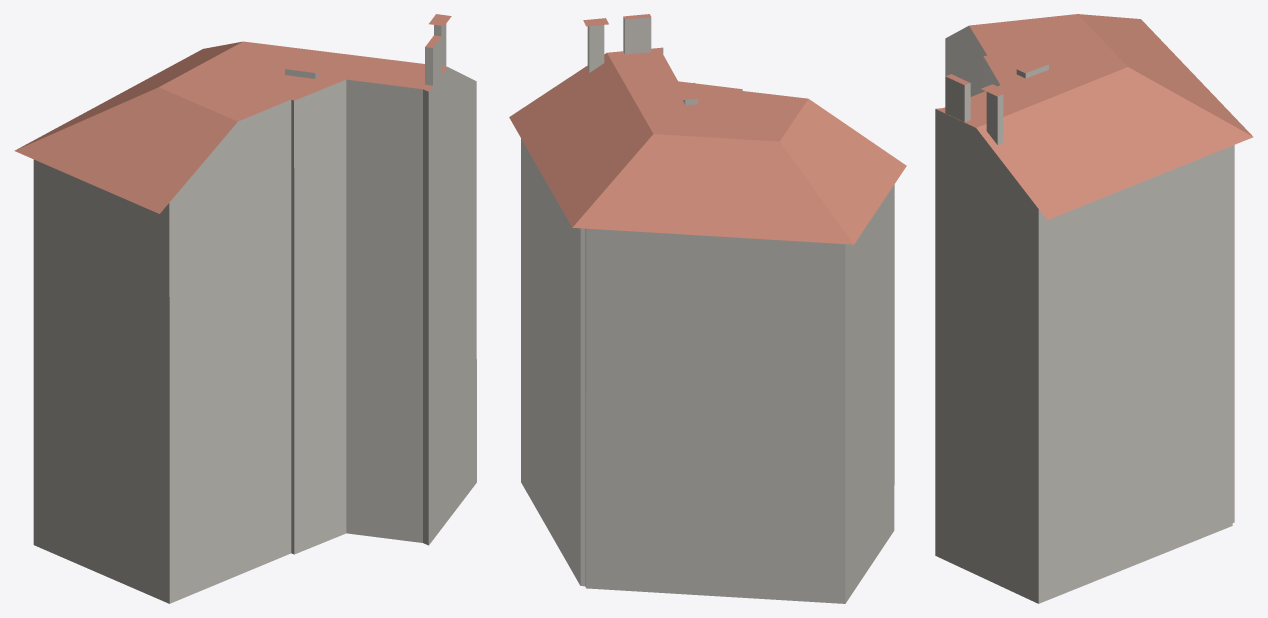
3 views of the same model, side by side, from view 1: azimuth 30°, elevation 25°; view 2: azimuth 150°, elevation 25°; view 3: azimuth 270°, elevation 25° (orthographic). The views are drawn at different scales.
Parts seen in each view (by area): view 1: swisstopo:swissbuildings3d:ba6e17b1-dd99-4f3f-884a-f3a61d067; view 2: swisstopo:swissbuildings3d:ba6e17b1-dd99-4f3f-884a-f3a61d067; view 3: swisstopo:swissbuildings3d:ba6e17b1-dd99-4f3f-884a-f3a61d067.
Part boxes in pixels (x1,y1,x2,y2): swisstopo:swissbuildings3d:ba6e17b1-dd99-4f3f-884a-f3a61d067: (14, 14, 476, 603); swisstopo:swissbuildings3d:ba6e17b1-dd99-4f3f-884a-f3a61d067: (509, 14, 906, 603); swisstopo:swissbuildings3d:ba6e17b1-dd99-4f3f-884a-f3a61d067: (935, 14, 1253, 603).
Bounding box in the file's own units: 28.24 × 31.77 × 18.89.
